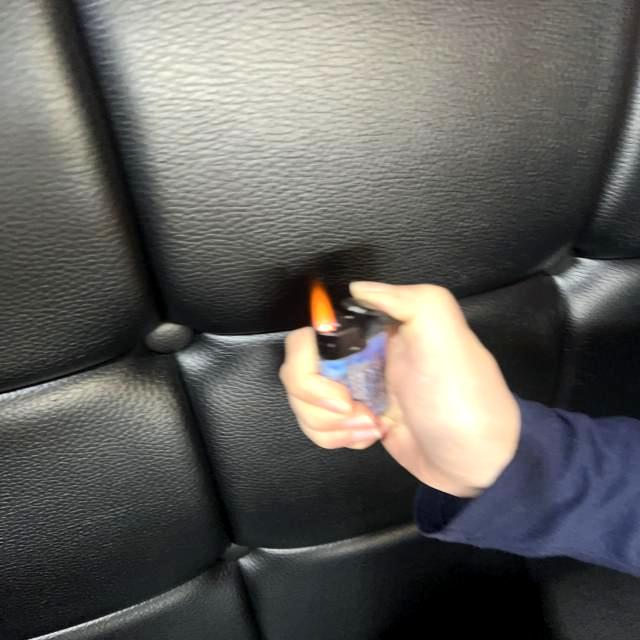fire: (310, 282, 342, 334)
